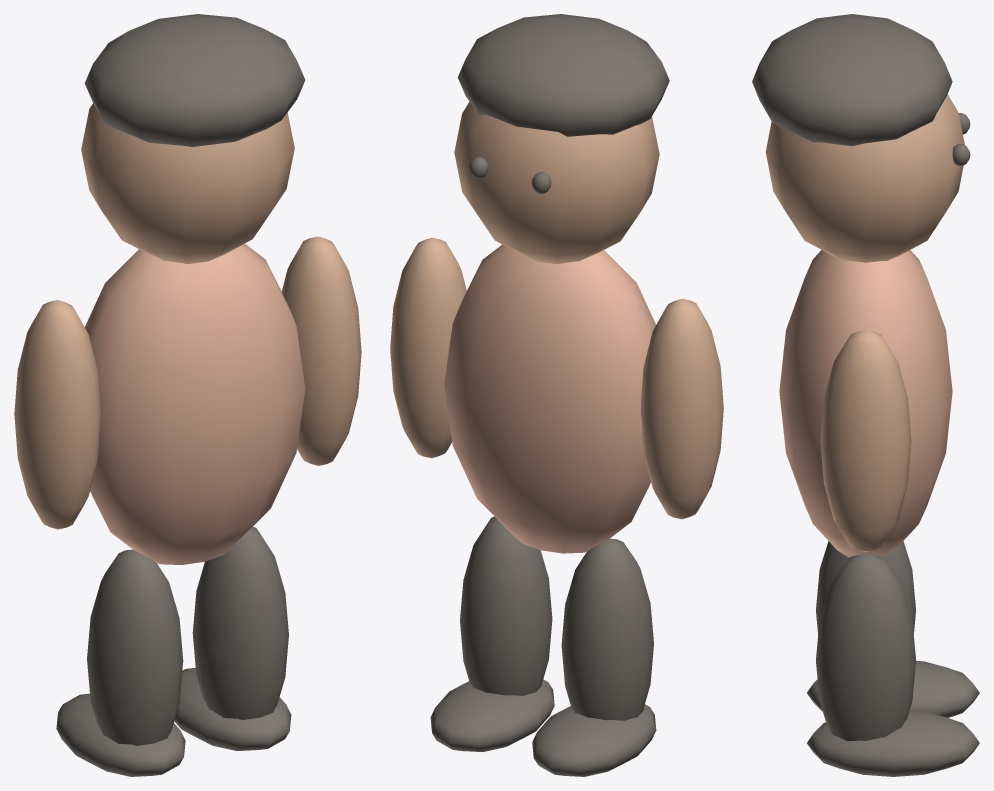
File: neighbor-standing.glb
3 renders of one model, left to right at view 1: azimuth 30°, elevation 25°; view 2: azimuth 150°, elevation 25°; view 3: azimuth 270°, elevation 25°, orthographic. The views are drawn at different scales.
Size of the model in its own units: 0.82 by 1.72 by 0.5.
